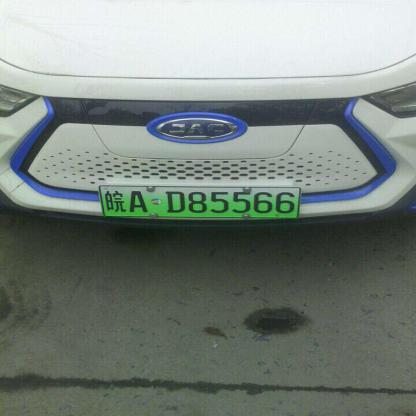lp: (98, 186, 299, 217)
